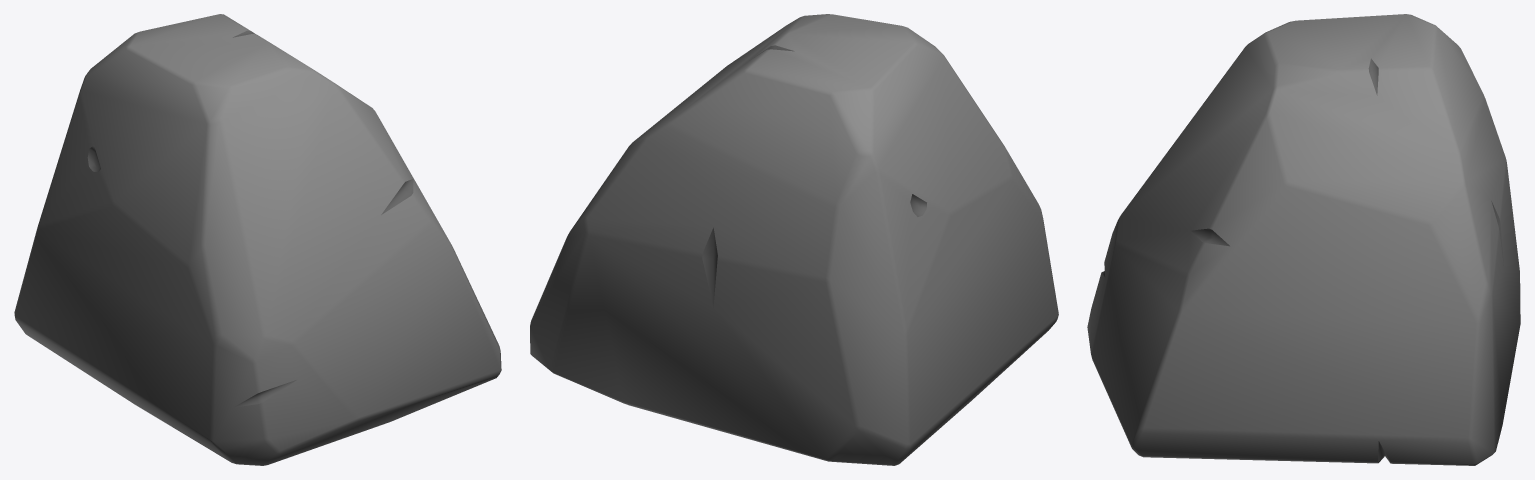
Rendered from Rock08.fbx.
The picture shows the model from 3 angles, left to right: view 1: azimuth 30°, elevation 25°; view 2: azimuth 150°, elevation 25°; view 3: azimuth 270°, elevation 25°; orthographic projection. The views are drawn at different scales.
Visible parts, largest first — view 1: LOD0; view 2: LOD0; view 3: LOD0.
Boxes of the visible parts, left/top/right/bottom form: LOD0: left=14, top=14, right=501, bottom=465; LOD0: left=530, top=14, right=1058, bottom=465; LOD0: left=1087, top=14, right=1520, bottom=465.
Size of what is drawn, in the model's own units: 492 by 485 by 412.
